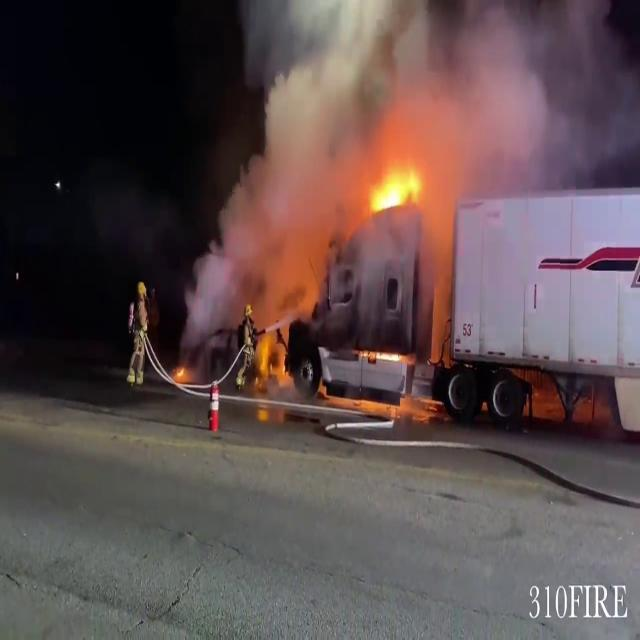Fire: (362, 143, 430, 224), (170, 354, 194, 386)
Smoke: (186, 0, 636, 312)
